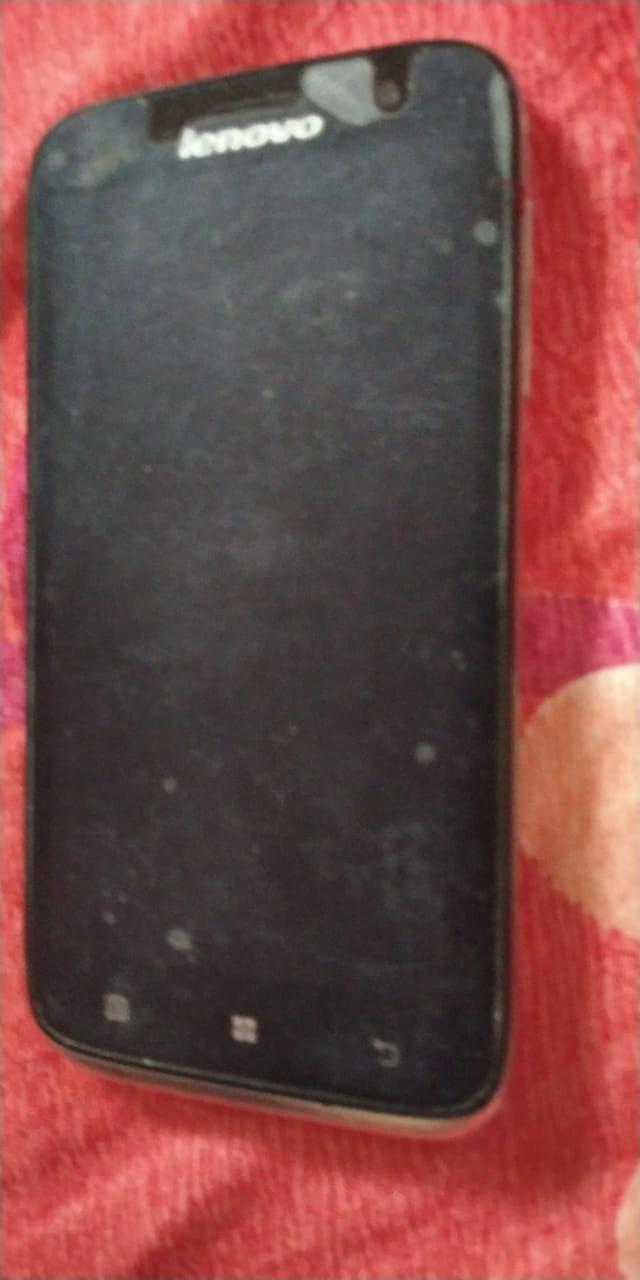Phone: (12, 29, 552, 1159)
